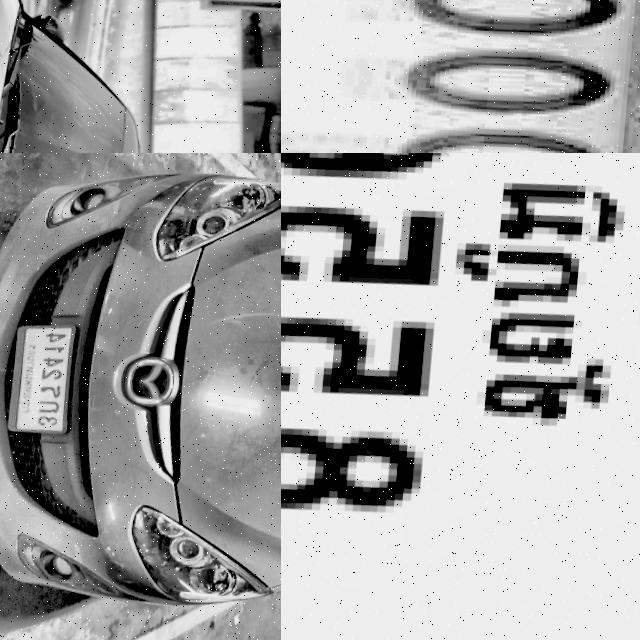license-plate: (281, 153, 640, 640), (281, 0, 640, 153), (12, 322, 78, 440)
